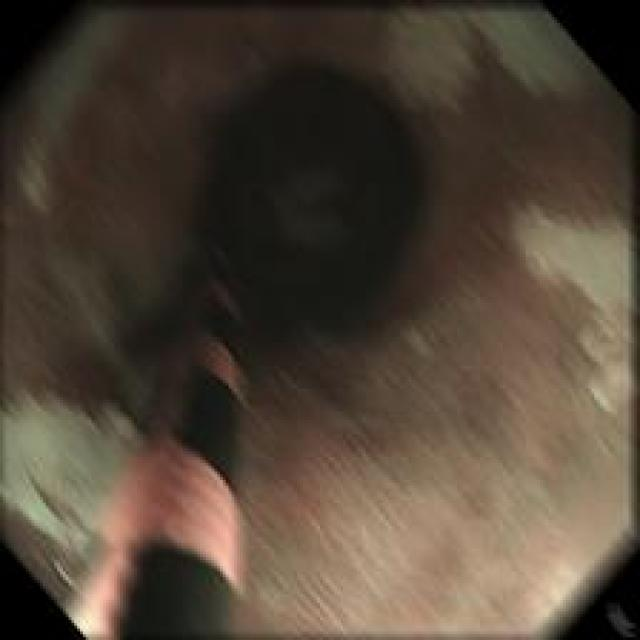blur: (1, 1, 636, 638), (488, 190, 636, 430)
contrast: (1, 0, 466, 366), (466, 0, 632, 192)
instrument: (74, 221, 258, 638)
